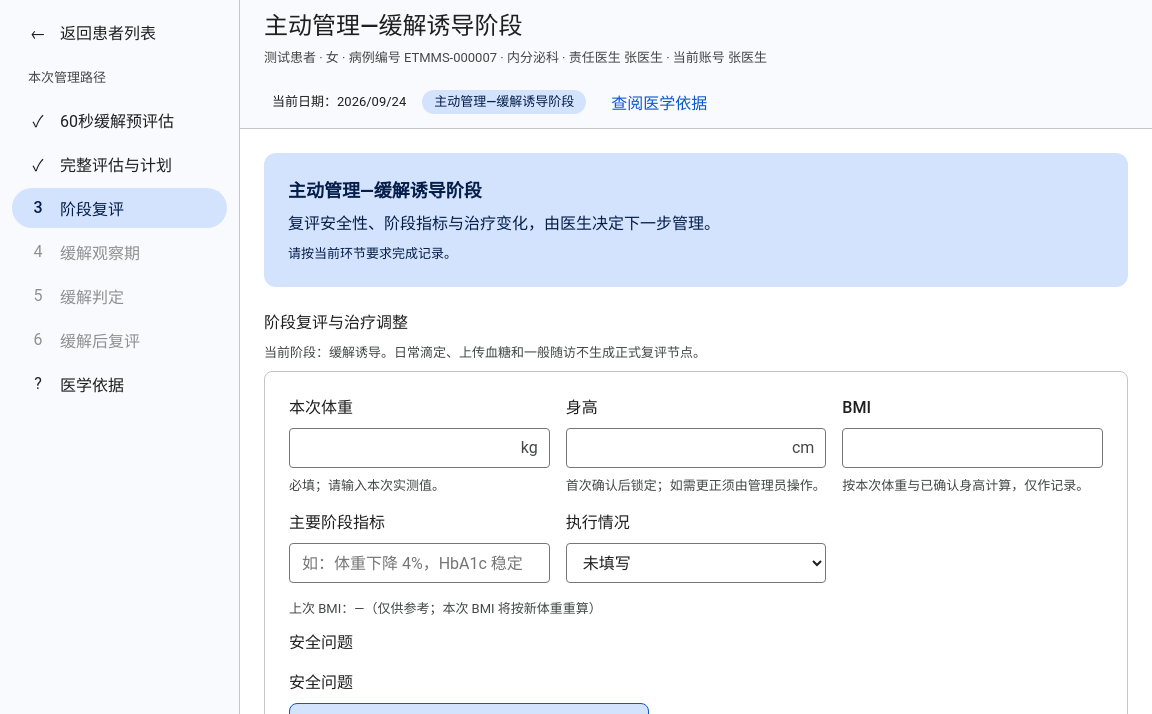
PatientWorkspacePage 导航规则 › 点击已完成单元进入只读回看，且不出现会改变状态的提交按钮
Click the button "✓ 60秒缓解预评估": (120, 120) x1=12 y1=100 x2=227 y2=140
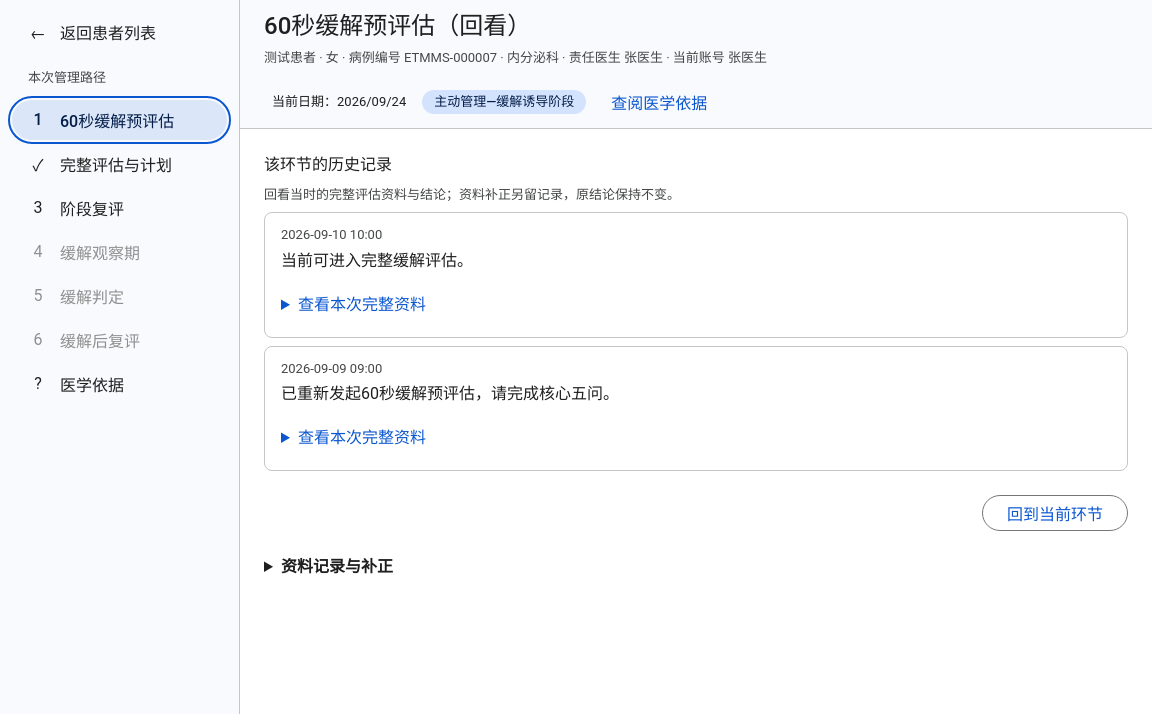
Expected: the text "当前可进入完整缓解评估。" is shown, x1=281 y1=250 x2=473 y2=270
Expected: the heading "该环节的历史记录" is shown, x1=264 y1=154 x2=392 y2=174
